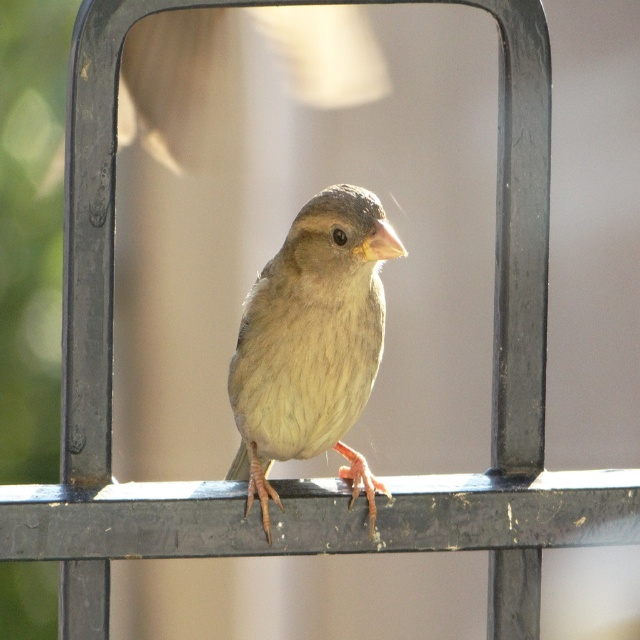Sparrow: (224, 184, 408, 547)
